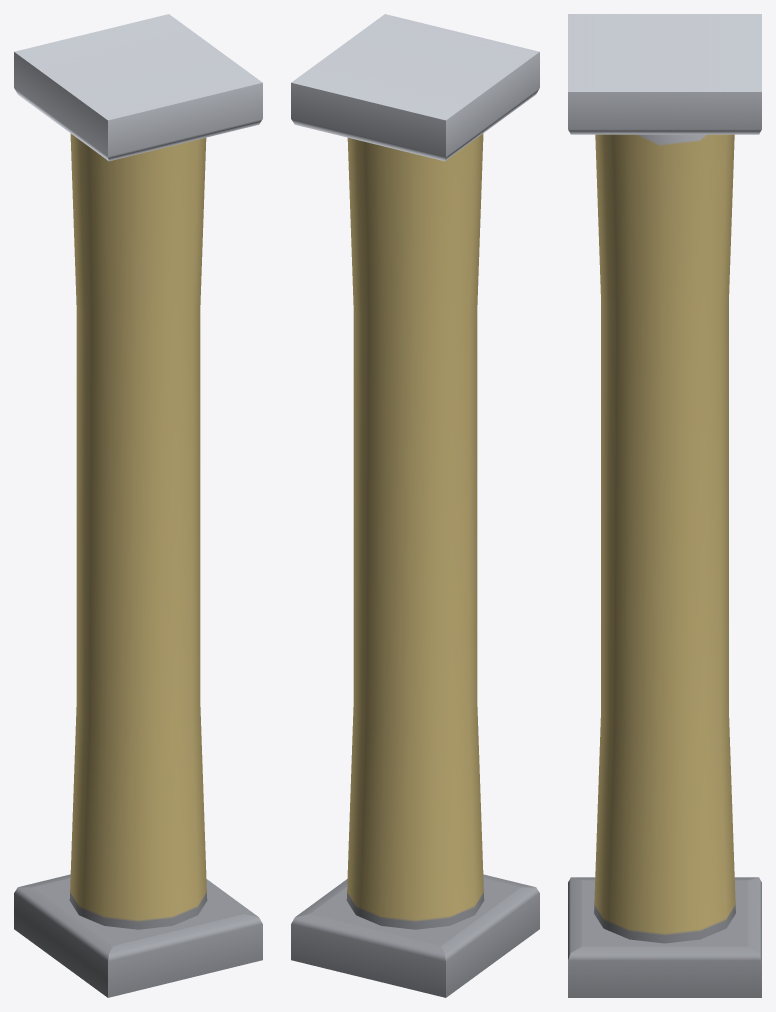
The model's file is pillar.fbx.
The picture shows the model from 3 angles, left to right: view 1: azimuth 30°, elevation 25°; view 2: azimuth 150°, elevation 25°; view 3: azimuth 270°, elevation 25°; orthographic projection. The views are drawn at different scales.
Visible parts, largest first — view 1: pilar; view 2: pilar; view 3: pilar.
Boxes of the visible parts, <box> form: pilar: <box>14,14,262,997</box>; pilar: <box>291,14,539,997</box>; pilar: <box>568,14,761,997</box>.
Bounding box in the file's own units: 14.55 × 78.75 × 15.27.
1 material, 1 textured.
